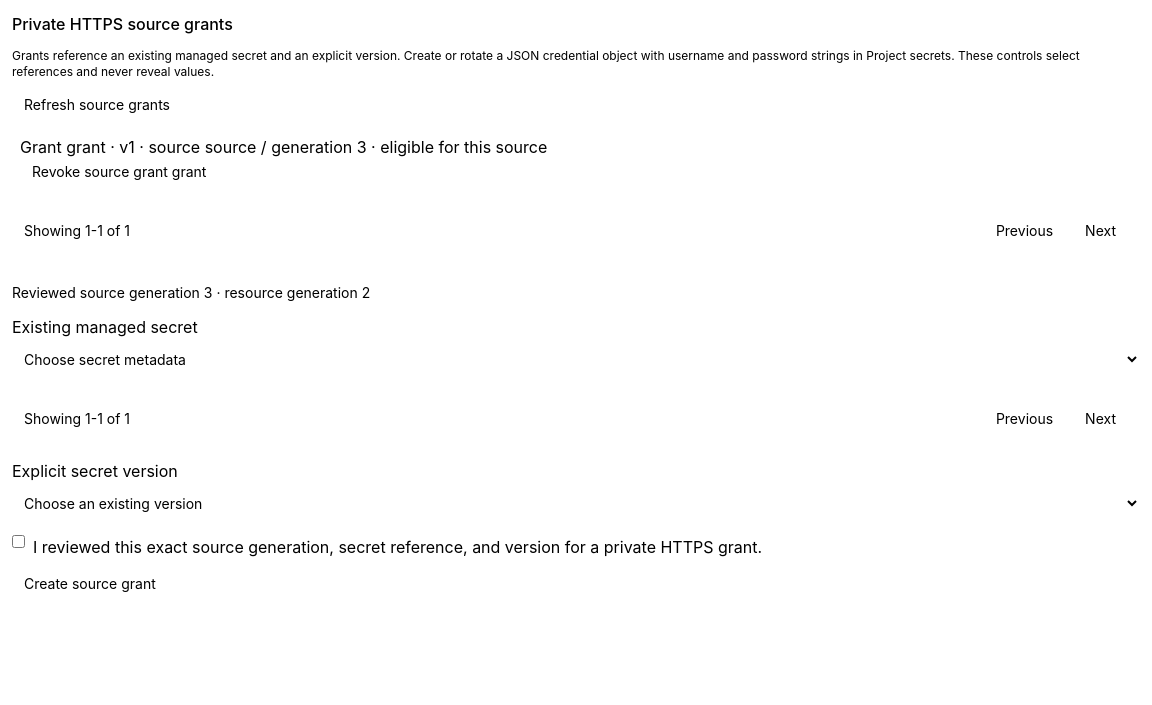
Test: lost preserves request ID, generations and secret version on retry
Select "Git credentials · secret" in the dropdown labelled "Existing managed secret" at x=576, y=359, box [12,339,1140,379]
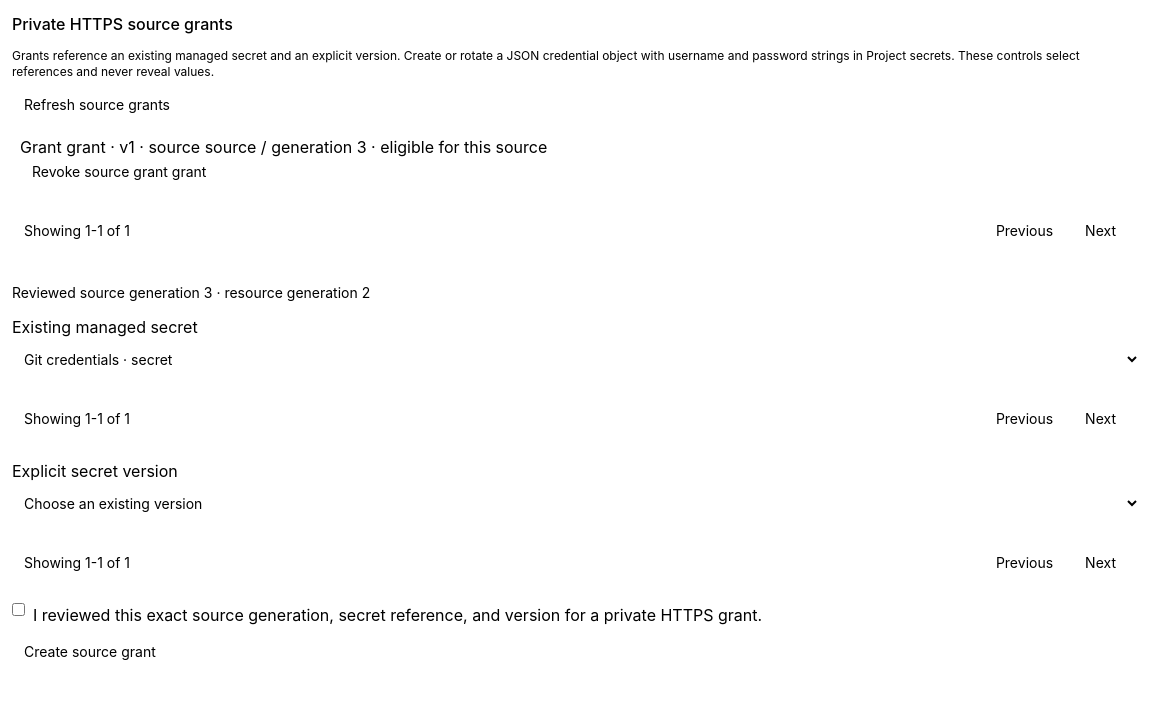
Select "Version 4" in the dropdown labelled "Explicit secret version" at x=576, y=503, box [12,483,1140,523]
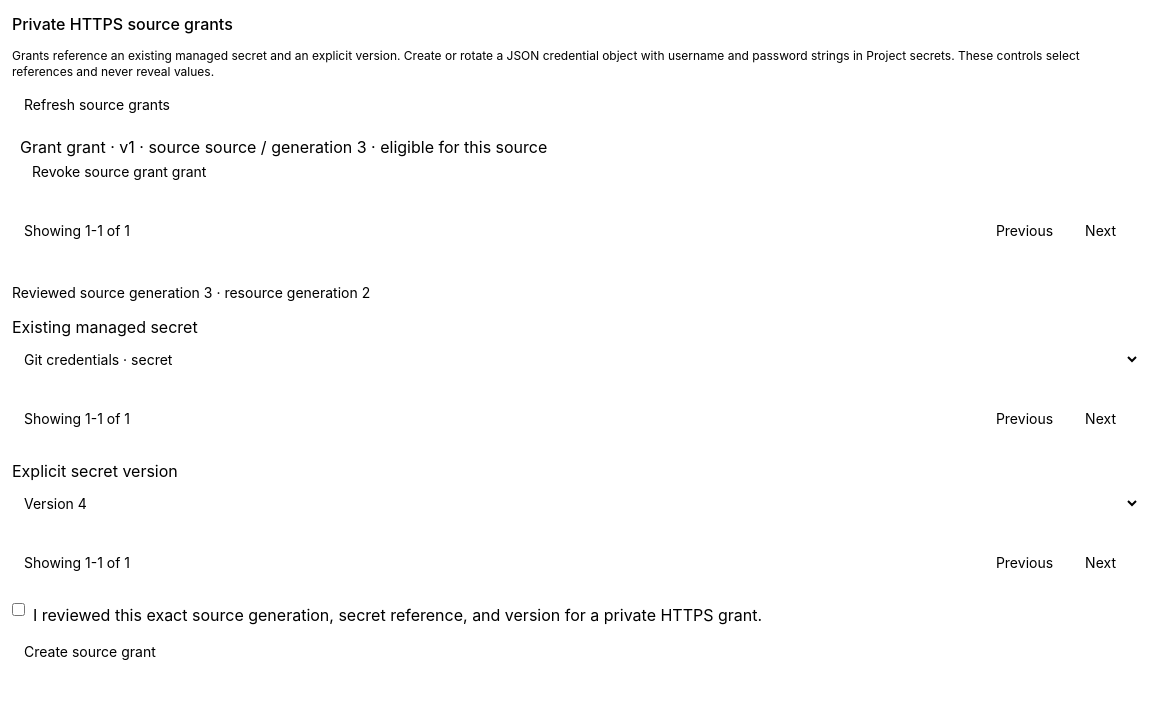
Click the checkbox labelled "I reviewed this exact source generation" at x=18, y=610, box [12,603,25,616]
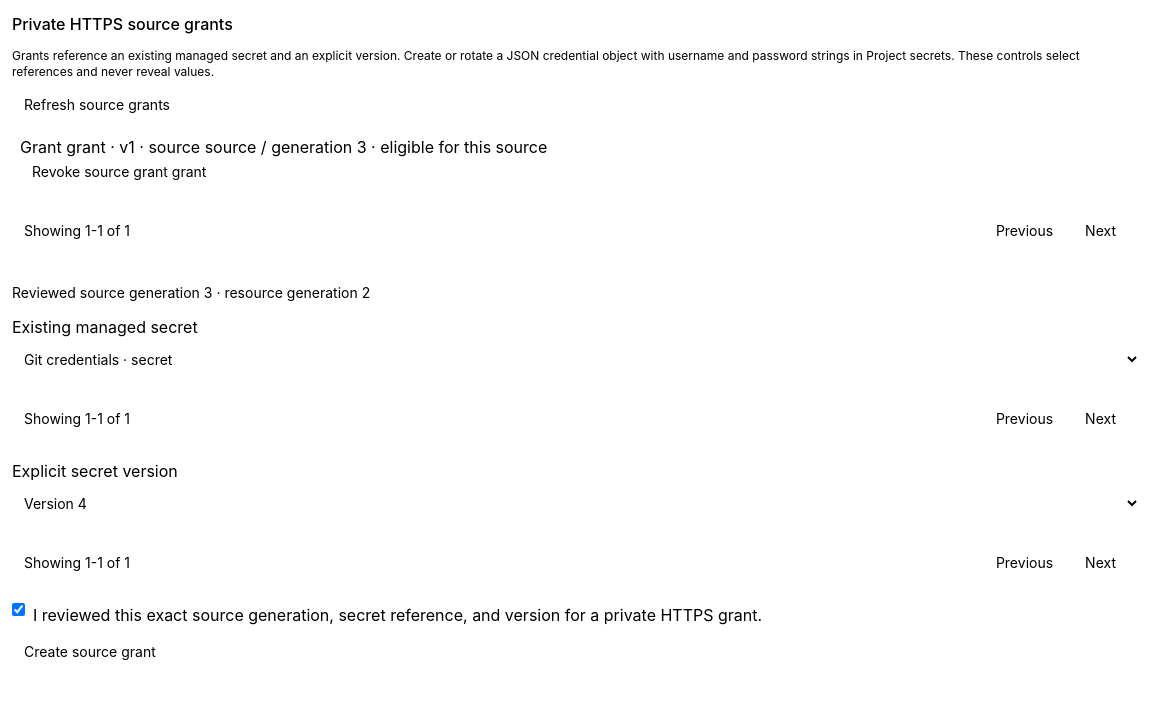
Click the button "Create source grant" at x=90, y=652, box [12,642,168,662]
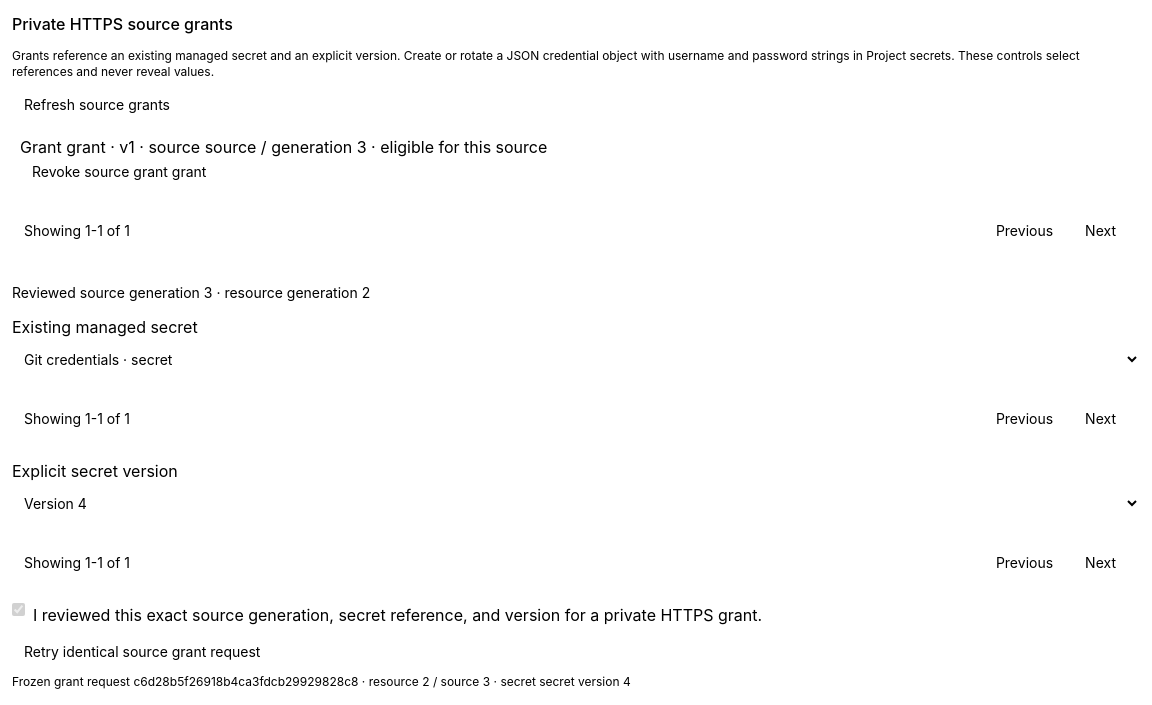
expect the dropdown labelled "Explicit secret version" is disabled: met, box [12,483,1140,523]
Click the button "Retry identical source grant request" at x=142, y=652, box [12,642,272,662]
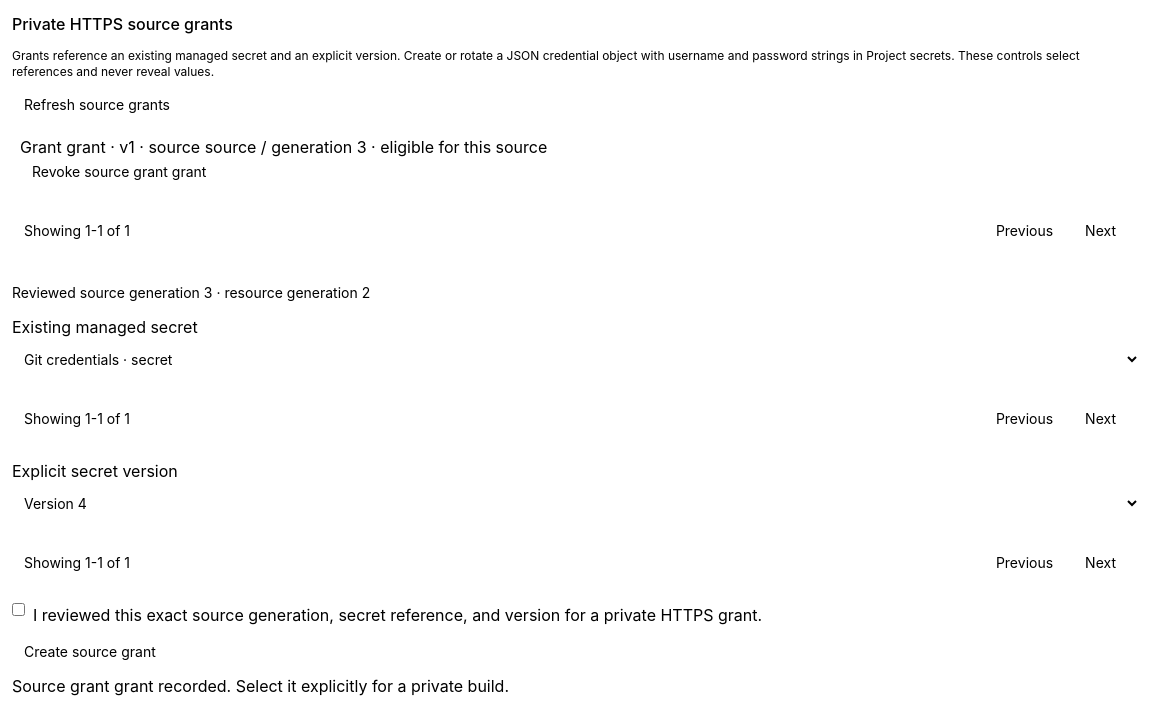
expect the text "Source grant grant recorded. Select it explicitly for a private build." is shown: met, box [12,676,509,696]
